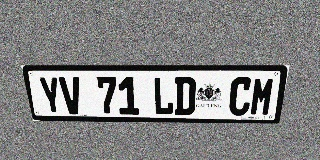1: (117, 77, 139, 115)
7: (95, 77, 119, 115)
C: (228, 77, 253, 116)
D: (174, 77, 196, 115)
L: (153, 77, 174, 115)
M: (249, 77, 276, 116)
V: (58, 77, 84, 114)
Y: (37, 77, 64, 114)
